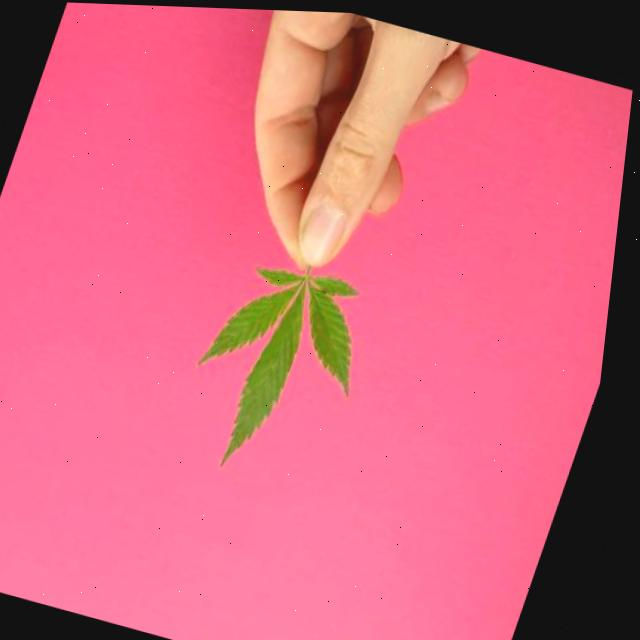cannabis: (198, 264, 358, 465)
